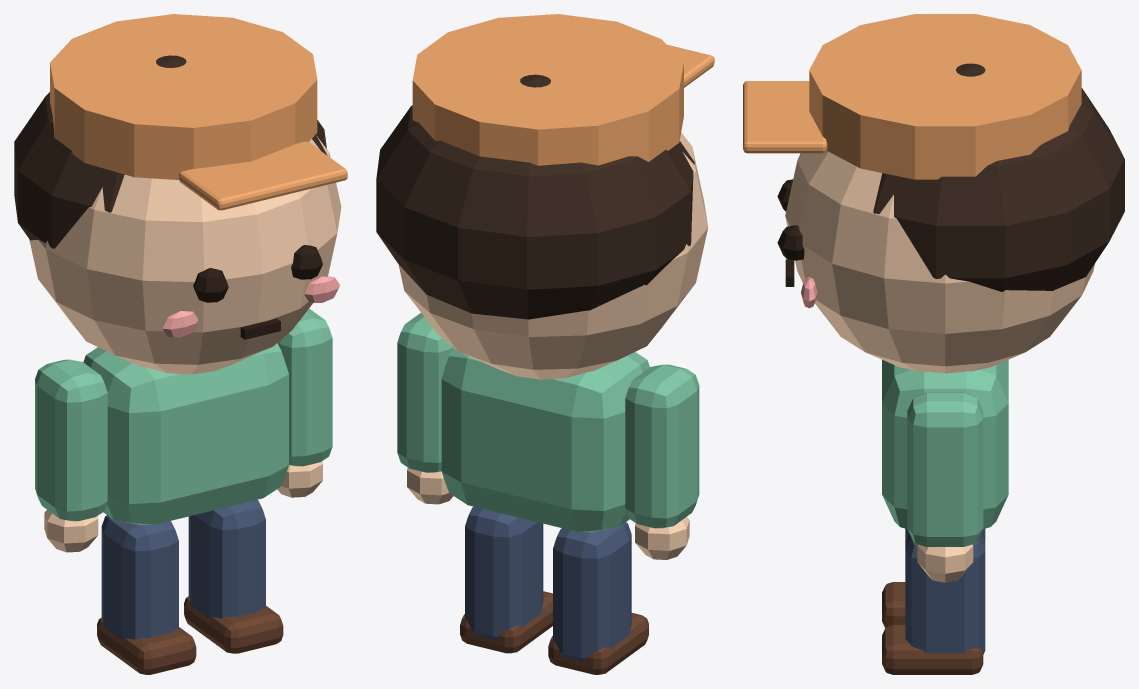
File: kar_penjaga_fotokopi.fbx
3 renders of one model, left to right at view 1: azimuth 30°, elevation 25°; view 2: azimuth 150°, elevation 25°; view 3: azimuth 270°, elevation 25°, orthographic.
Parts seen in each view (by area): view 1: kar_penjaga_fotokopi; view 2: kar_penjaga_fotokopi; view 3: kar_penjaga_fotokopi.
Boxes of the visible parts, <box> form: kar_penjaga_fotokopi: <box>14,14,347,674</box>; kar_penjaga_fotokopi: <box>376,14,714,674</box>; kar_penjaga_fotokopi: <box>743,14,1124,674</box>.
Size of the model in its own units: 76 by 151 by 90.6.
1 material, 1 textured.
